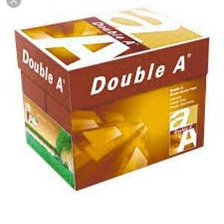book: (8, 4, 213, 194)
